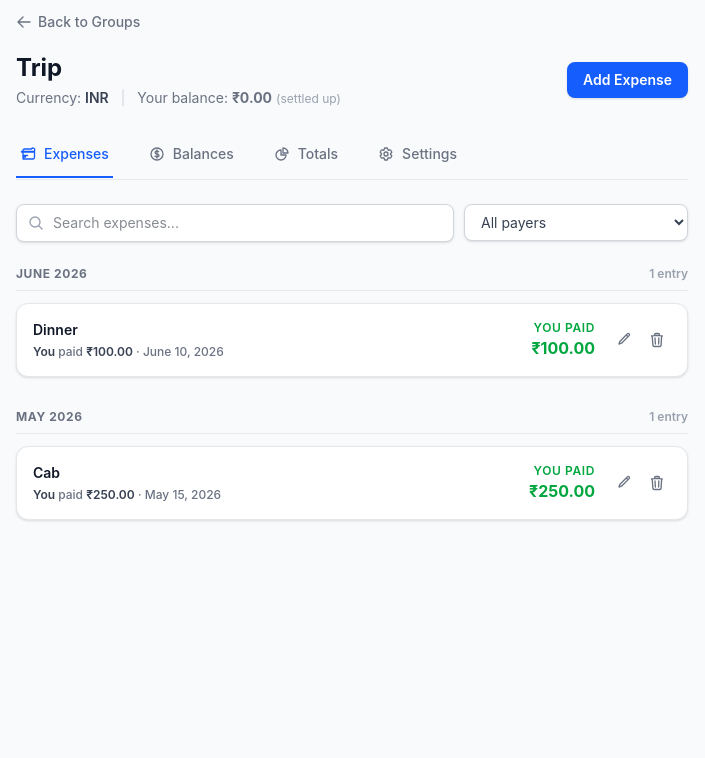
it: GroupDetailPage › renders the tabs and switches content when clicked
Check: the heading "Trip" is shown, box [16,53,62,82]
Check: the field with placeholder "Search expenses..." is shown, box [16,204,454,242]
Click on Balances tab
Step 1. Click the button "Balances" → click(191, 155), box [145,132,238,178]
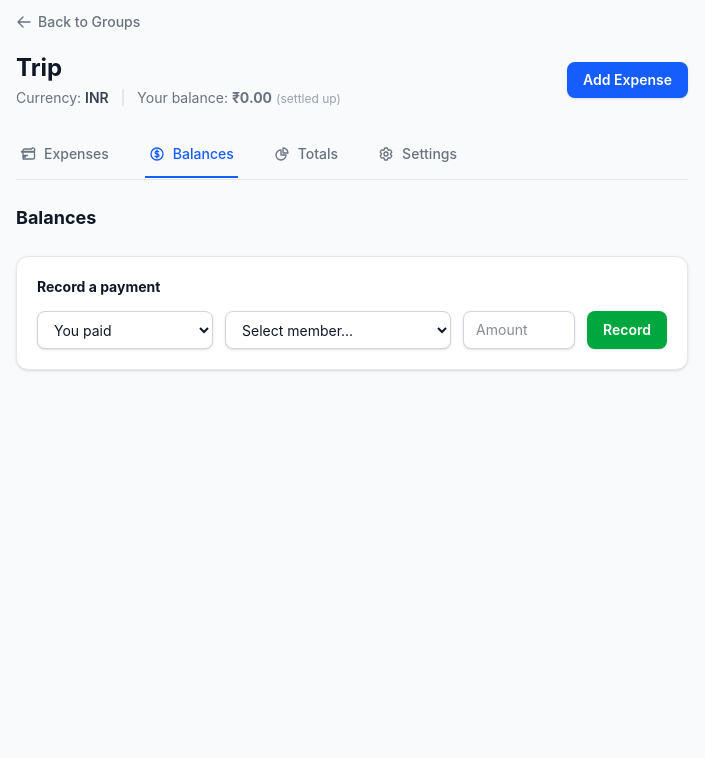
Check: the field with placeholder "Search expenses..." is not shown
Check: the heading "Balances" is shown, box [16,207,96,228]
Check: the heading "Record a payment" is shown, box [37,278,160,295]
Click on Settings tab
Step 2. Click the button "Settings" → click(418, 155), box [374,132,461,178]
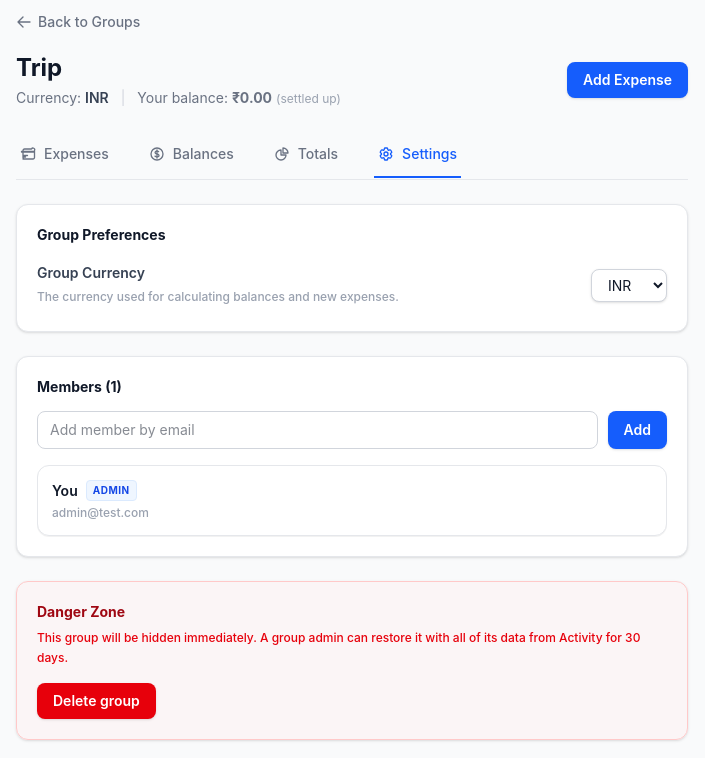
Check: the heading "Group Preferences" is shown, box [37,226,166,243]
Check: the heading "Members (1)" is shown, box [37,378,122,395]
